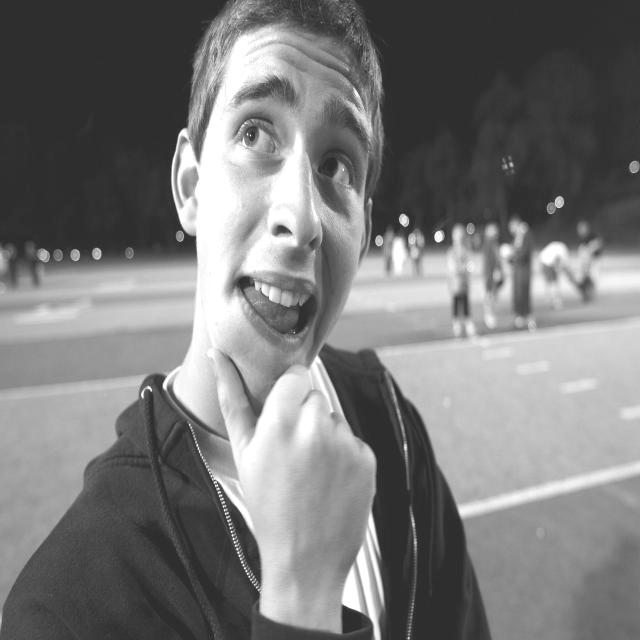real: (190, 17, 381, 414), (222, 100, 370, 206)
